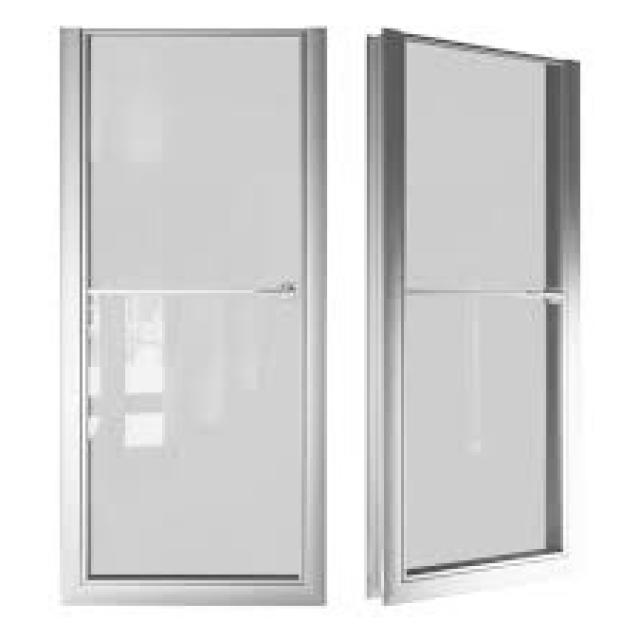door: (370, 30, 580, 604)
